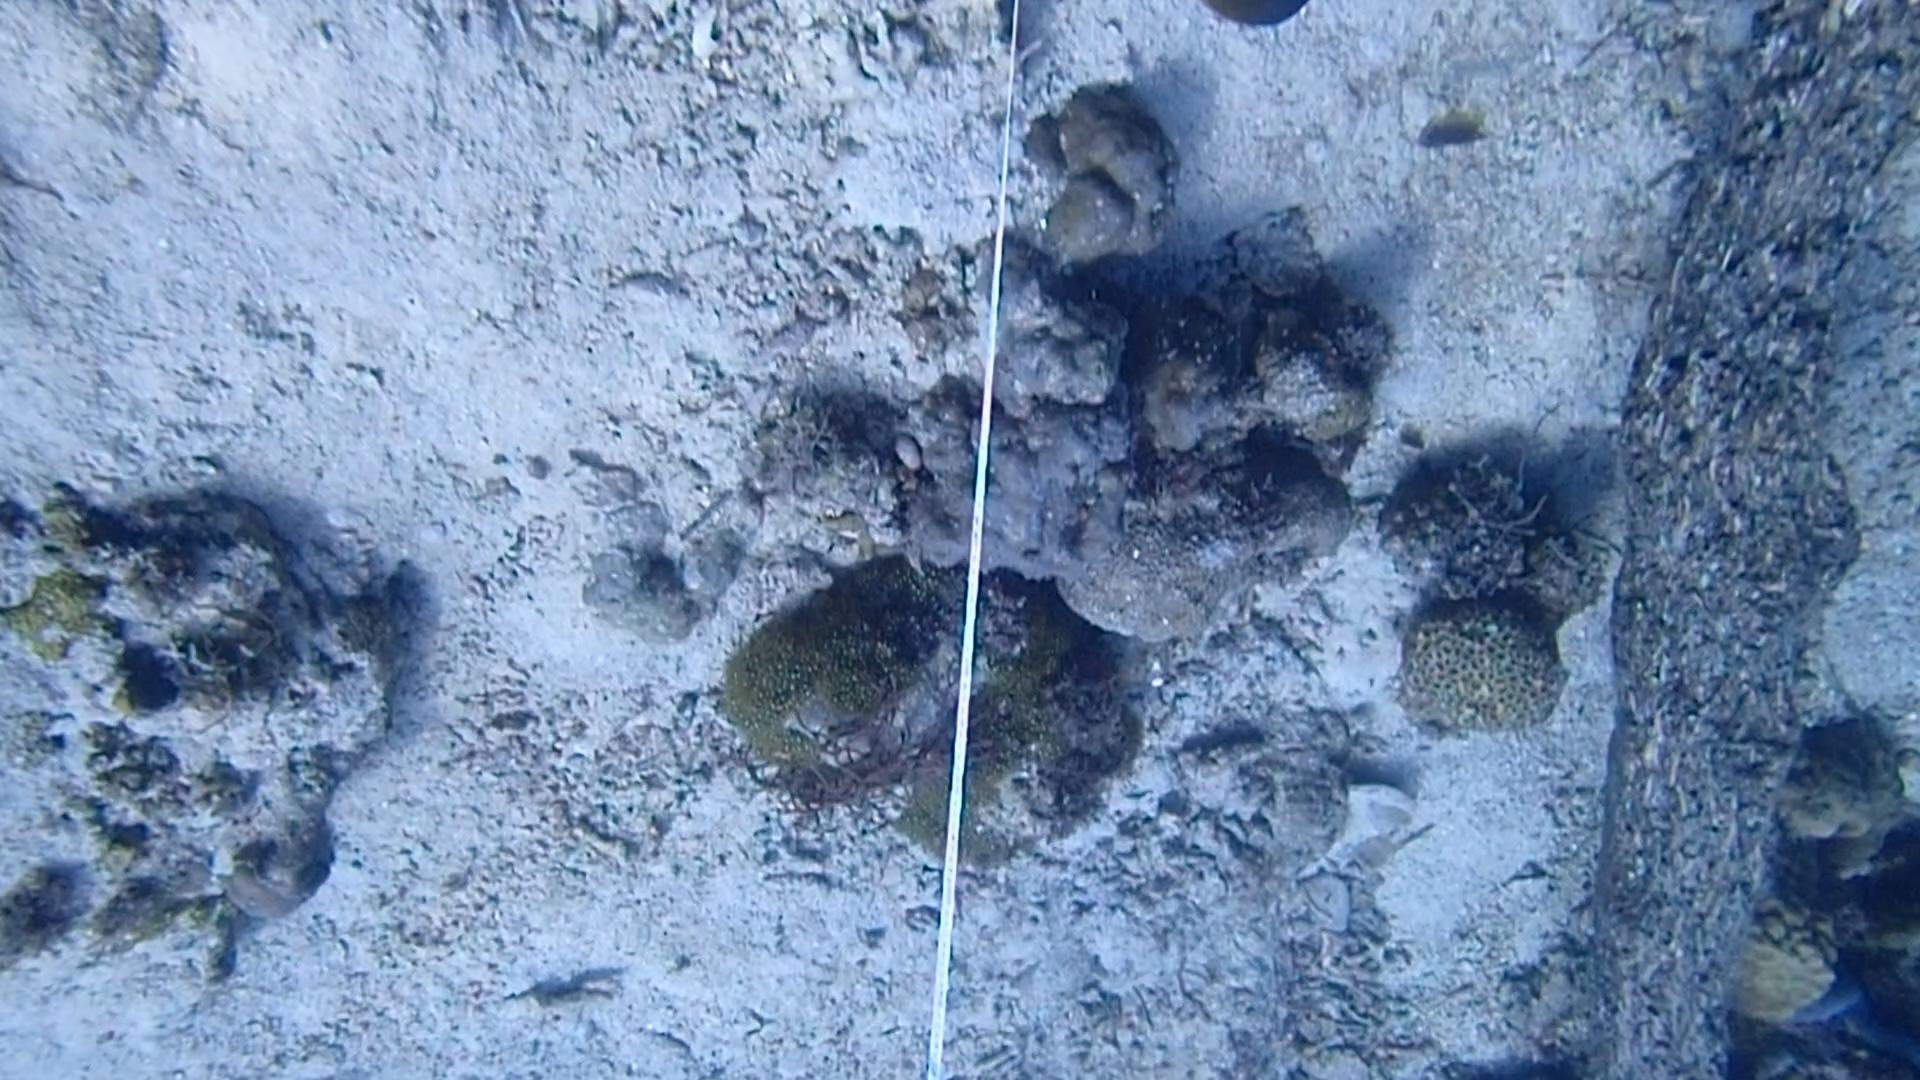Light Fish: (1416, 98, 1502, 161)
